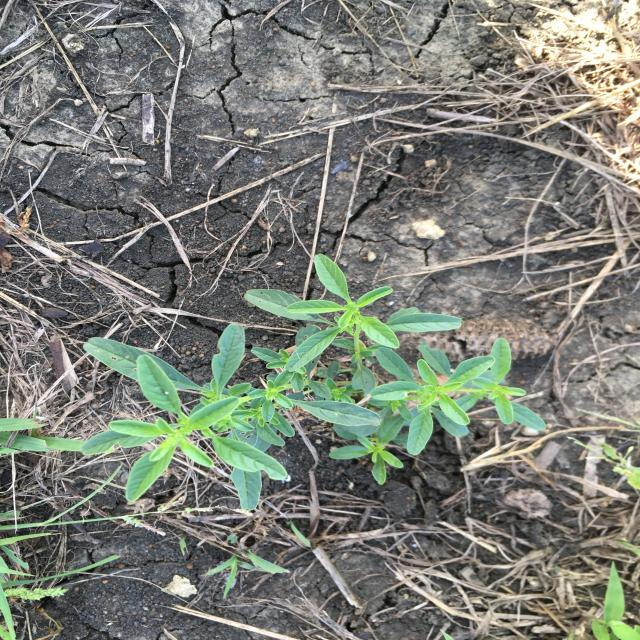Waterhemp: (78, 252, 550, 512)
